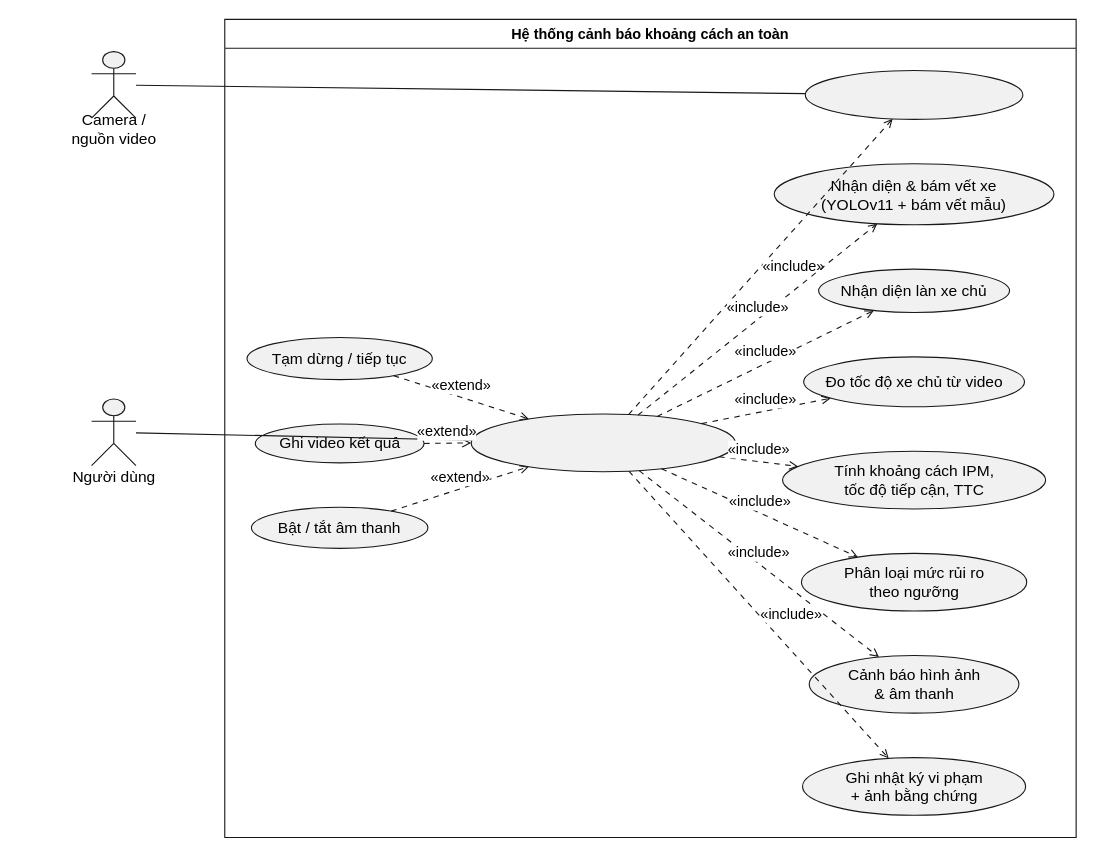
The diagram is 1096 pixels wide and 857 high, and some of its shapes have lost their labels. The centre of each missing label's shape, as x and y in pixels:
UC04. Giám sát realtime & cảnh báo: point 602,442
Đọc khung hình từ nguồn: point 913,94
